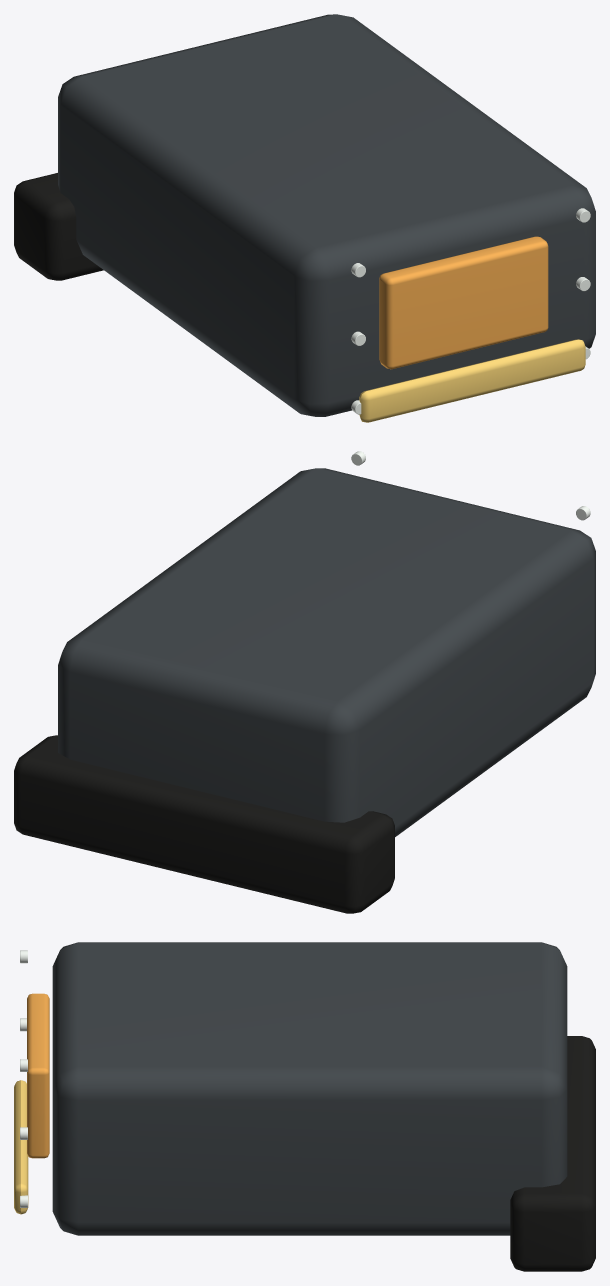
Rendered from hp_pickup_ammo_magazine.glb.
3 renders of one model, top to bottom at view 1: azimuth 30°, elevation 25°; view 2: azimuth 150°, elevation 25°; view 3: azimuth 270°, elevation 25°, orthographic.
Parts seen in each view (by area): view 1: pickup_ammo_magazine_mag_body, pickup_ammo_magazine_ammo_window, pickup_ammo_magazine_ammo_gold_rule_art_color_block, pickup_ammo_magazine_base_plate; view 2: pickup_ammo_magazine_mag_body, pickup_ammo_magazine_base_plate; view 3: pickup_ammo_magazine_mag_body, pickup_ammo_magazine_base_plate, pickup_ammo_magazine_ammo_window, pickup_ammo_magazine_ammo_gold_rule_art_color_block.
Boxes of the visible parts, x1,y1,x2,y2 form: pickup_ammo_magazine_mag_body: [58, 14, 595, 416]; pickup_ammo_magazine_ammo_window: [379, 236, 548, 369]; pickup_ammo_magazine_ammo_gold_rule_art_color_block: [359, 339, 585, 422]; pickup_ammo_magazine_base_plate: [14, 173, 103, 280]; pickup_ammo_magazine_mag_body: [58, 468, 595, 836]; pickup_ammo_magazine_base_plate: [14, 735, 394, 913]; pickup_ammo_magazine_mag_body: [52, 942, 567, 1235]; pickup_ammo_magazine_base_plate: [510, 1036, 595, 1271]; pickup_ammo_magazine_ammo_window: [27, 993, 49, 1158]; pickup_ammo_magazine_ammo_gold_rule_art_color_block: [14, 1080, 28, 1214].
Size of the model in its own units: 0.28 by 0.145 by 0.407.
